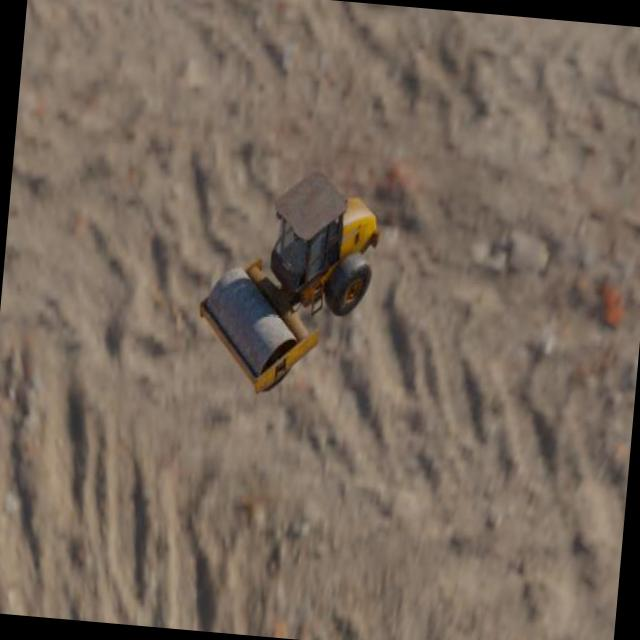Roller: (190, 160, 386, 404)
